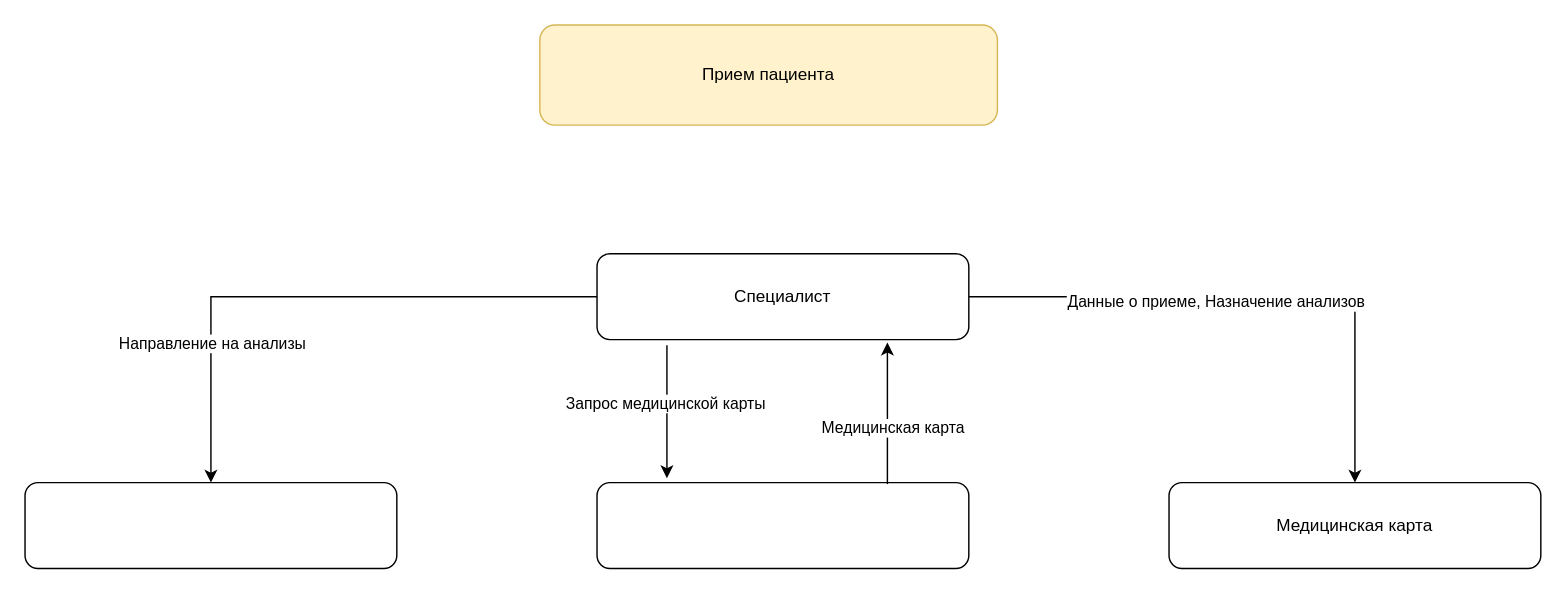
This 1566x593 diagram has some shape labels left out. The centre of each missing label's shape, as x and y in pixels:
"Журнал записей (Excel/скан)" belongs at [782,524].
"Лаборатория" belongs at [210,524].
